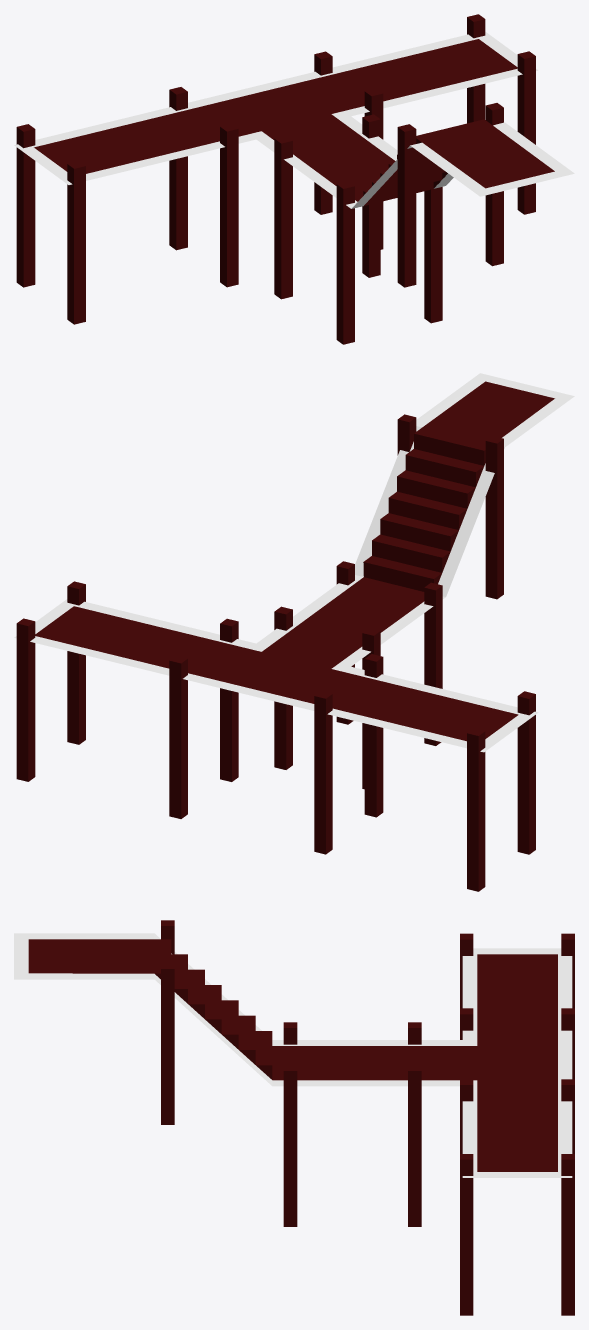
Rendered from FBX_PortTwo.fbx.
3 views of the same model, one above another, from view 1: azimuth 30°, elevation 25°; view 2: azimuth 150°, elevation 25°; view 3: azimuth 270°, elevation 25° (orthographic).
Visible parts, largest first — view 1: PortTwo; view 2: PortTwo; view 3: PortTwo.
Part boxes in pixels (x1,y1,x2,y2): PortTwo: [14, 14, 574, 344]; PortTwo: [14, 373, 574, 891]; PortTwo: [14, 920, 574, 1315].
Size of the model in its own units: 600 by 314 by 619.
